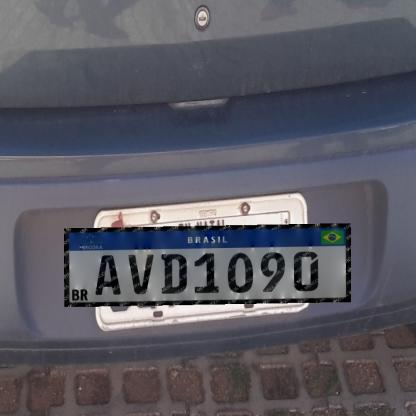PlacaM: (64, 223, 351, 307)
